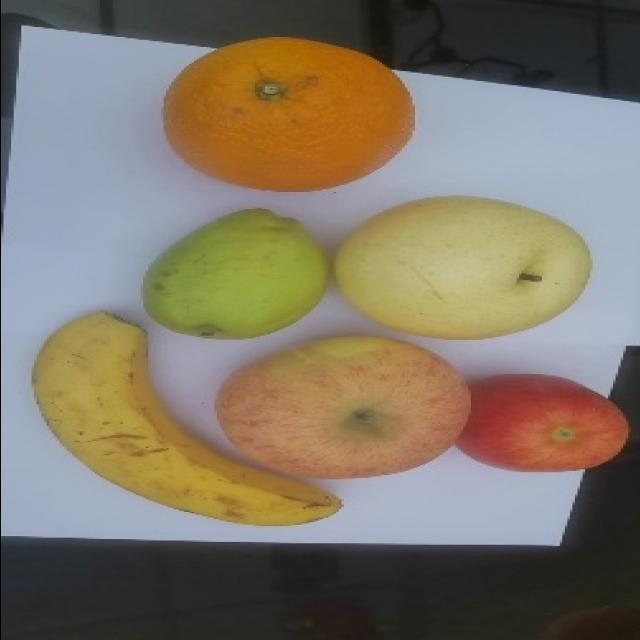Apple: (214, 331, 476, 476), (456, 362, 630, 477)
Banana: (31, 308, 342, 530)
Orange: (161, 32, 416, 195)
